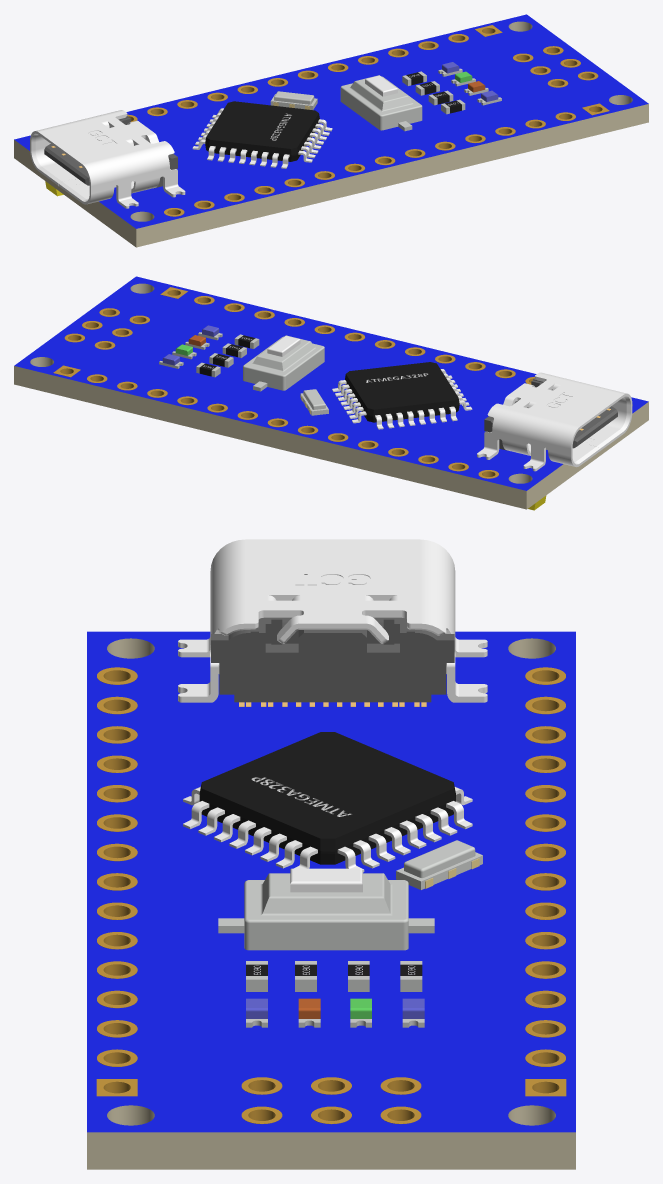
Rendered from Arduino Nano.gltf.
3 views of the same model, one above another, from view 1: azimuth 30°, elevation 25°; view 2: azimuth 150°, elevation 25°; view 3: azimuth 270°, elevation 25° (orthographic). The views are drawn at different scales.
Parts seen in each view (by area): view 1: pcb chinese nano, USB4110-GF-A_revB(1) MF, ATMEGA328P-AU--3DModel-STEP-56544.step.STEP.STEP.STEP, 2Pin Tactile Switch 6x3.6, CSTCE Crystal; view 2: pcb chinese nano, USB4110-GF-A_revB(1) MF, ATMEGA328P-AU--3DModel-STEP-56544.step.STEP.STEP.STEP, 2Pin Tactile Switch 6x3.6, CSTCE Crystal; view 3: pcb chinese nano, USB4110-GF-A_revB(1) MF, ATMEGA328P-AU--3DModel-STEP-56544.step.STEP.STEP.STEP, 2Pin Tactile Switch 6x3.6, CSTCE Crystal.
Part boxes in pixels (x1=…): pcb chinese nano: x1=14, y1=14, x2=648, y2=247; USB4110-GF-A_revB(1) MF: x1=30, y1=110, x2=185, y2=208; ATMEGA328P-AU--3DModel-STEP-56544.step.STEP.STEP.STEP: x1=205, y1=101, x2=319, y2=161; 2Pin Tactile Switch 6x3.6: x1=340, y1=75, x2=422, y2=131; CSTCE Crystal: x1=270, y1=91, x2=317, y2=109; pcb chinese nano: x1=14, y1=276, x2=648, y2=509; USB4110-GF-A_revB(1) MF: x1=477, y1=372, x2=632, y2=471; ATMEGA328P-AU--3DModel-STEP-56544.step.STEP.STEP.STEP: x1=345, y1=362, x2=459, y2=422; 2Pin Tactile Switch 6x3.6: x1=243, y1=335, x2=324, y2=391; CSTCE Crystal: x1=300, y1=389, x2=328, y2=415; pcb chinese nano: x1=87, y1=631, x2=575, y2=1169; USB4110-GF-A_revB(1) MF: x1=178, y1=539, x2=487, y2=706; ATMEGA328P-AU--3DModel-STEP-56544.step.STEP.STEP.STEP: x1=199, y1=732, x2=455, y2=864; 2Pin Tactile Switch 6x3.6: x1=218, y1=868, x2=434, y2=950; CSTCE Crystal: x1=396, y1=840, x2=482, y2=889.
Size of the model in its own units: 0.0444 by 0.00626 by 0.0179.
